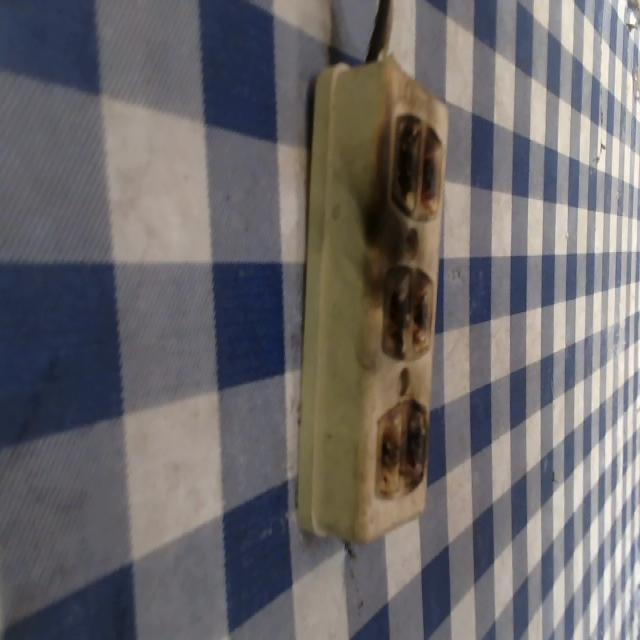-: (371, 398, 432, 502), (378, 259, 435, 364), (391, 110, 443, 222)
